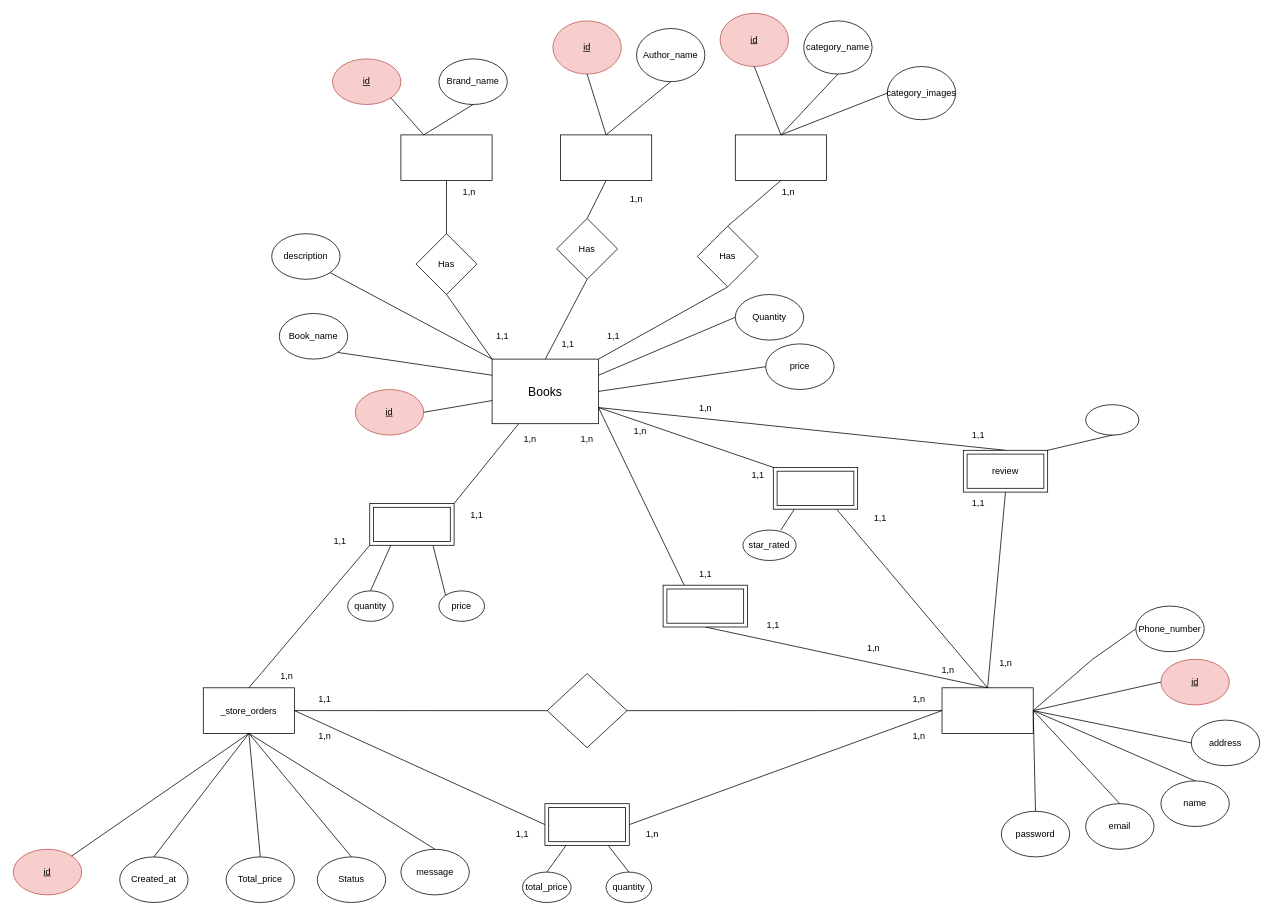
This 1273x916 diagram has some shape labels left out. Here are the shapes that lost their labels. From the top down, the box of each, then its label:
(400, 134, 492, 180): brand
(560, 134, 652, 180): author
(735, 134, 826, 180): category
(1085, 404, 1139, 435): Cust_review
(773, 467, 858, 509): rating
(369, 503, 454, 545): orders_details
(662, 584, 747, 627): wishlists
(546, 673, 627, 748): Bought
(941, 687, 1033, 733): users
(544, 803, 629, 846): cart
